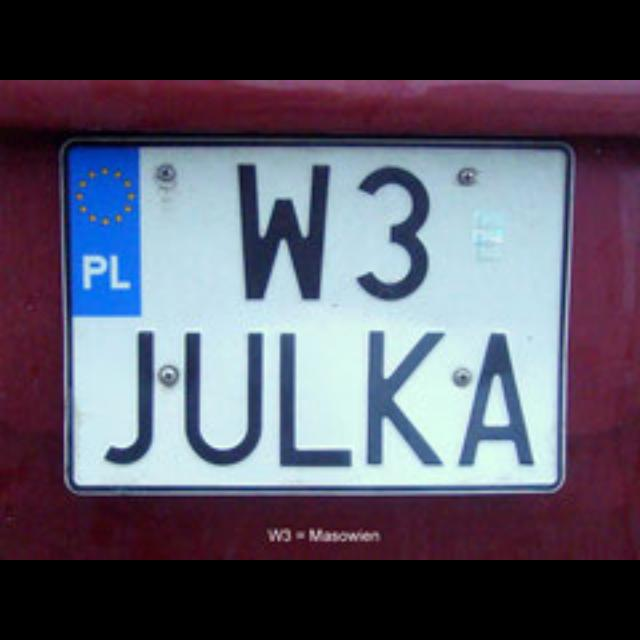pl_license_plate: (62, 142, 560, 488)
